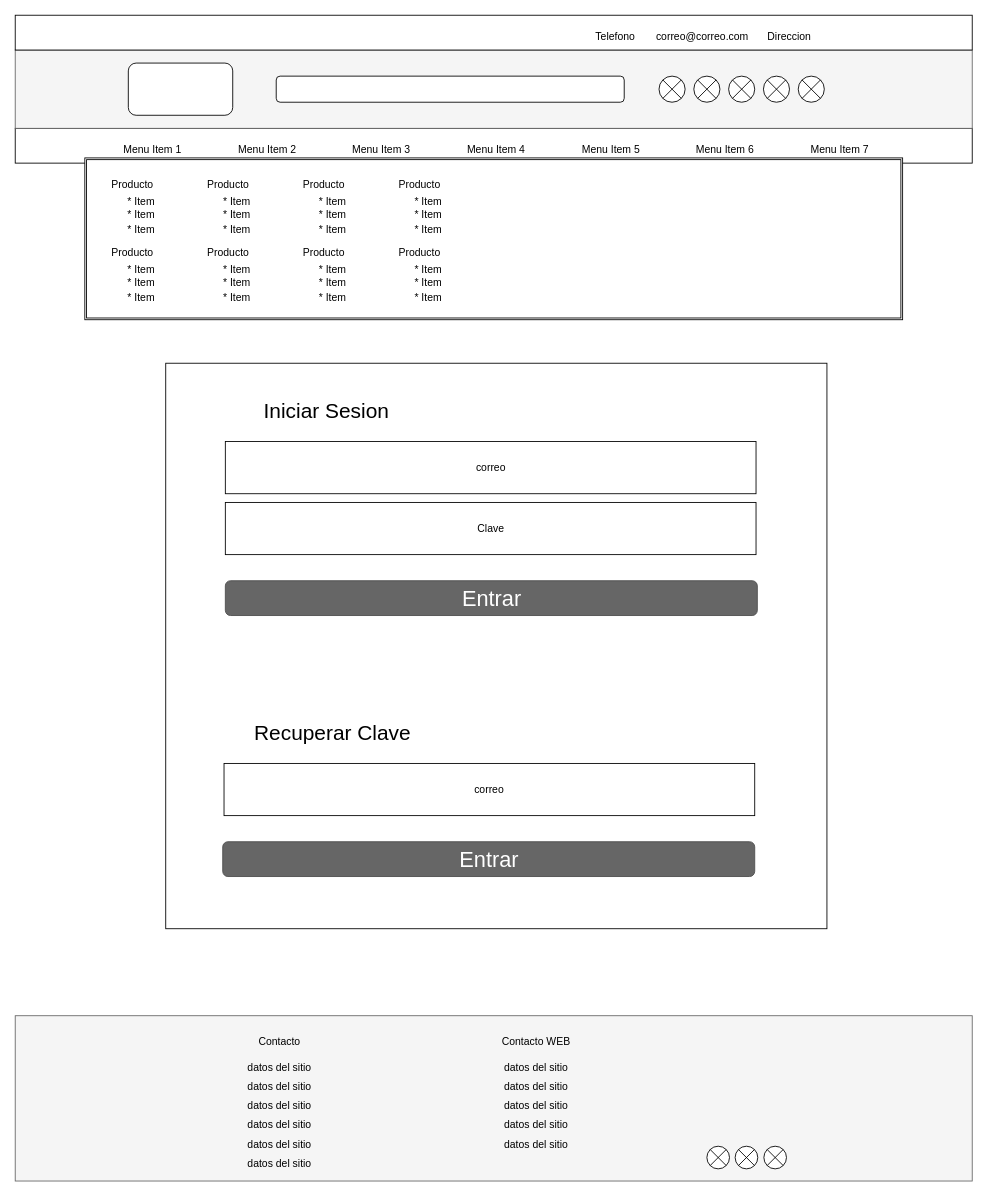
Image size: 987x1196. Some labels were removed from this diagram. Each missing label, with the box of its shape:
Buscador: (275, 75, 624, 102)
LOGO: (127, 62, 233, 115)
